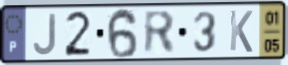2: (63, 9, 94, 59)
3: (191, 9, 219, 54)
6: (105, 6, 140, 60)
J: (31, 12, 58, 57)
K: (228, 9, 254, 55)
R: (142, 9, 178, 57)
